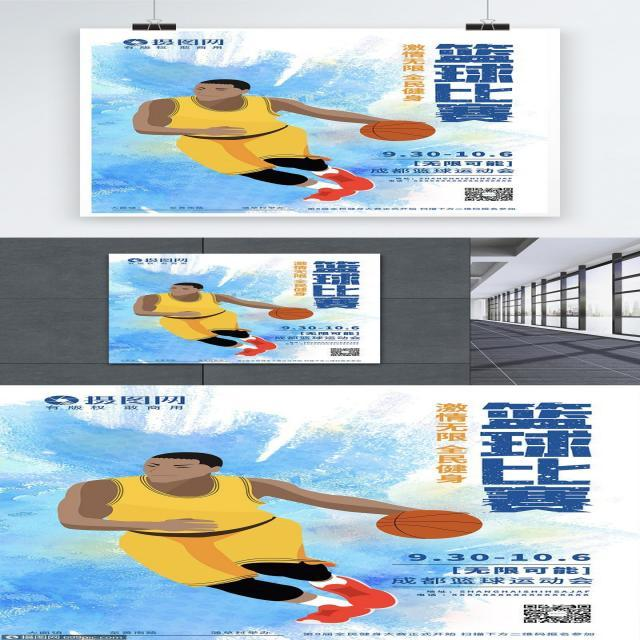rim: (382, 509, 487, 539), (362, 121, 442, 140), (273, 308, 320, 320)
